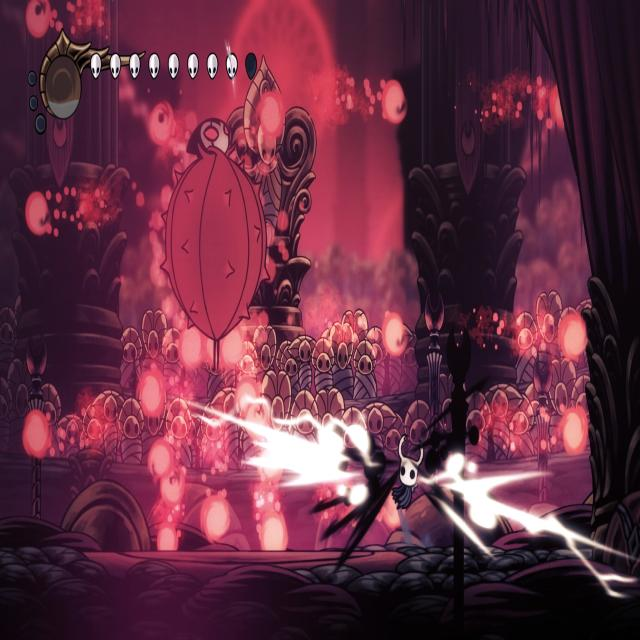Player: (389, 427, 425, 522)
Pufferfish: (156, 111, 274, 378)
Tiny Fireballs: (150, 438, 184, 505), (23, 410, 52, 460), (200, 494, 230, 542), (138, 369, 166, 418), (560, 408, 587, 456), (260, 93, 286, 142), (146, 103, 174, 148), (560, 313, 586, 361), (220, 325, 246, 370), (26, 190, 51, 236), (178, 327, 204, 371), (382, 81, 406, 126), (383, 482, 406, 528), (262, 512, 289, 551), (383, 315, 407, 357), (148, 440, 173, 480), (234, 377, 259, 417), (27, 0, 52, 38), (162, 469, 185, 507), (550, 80, 564, 130), (157, 522, 179, 551)
